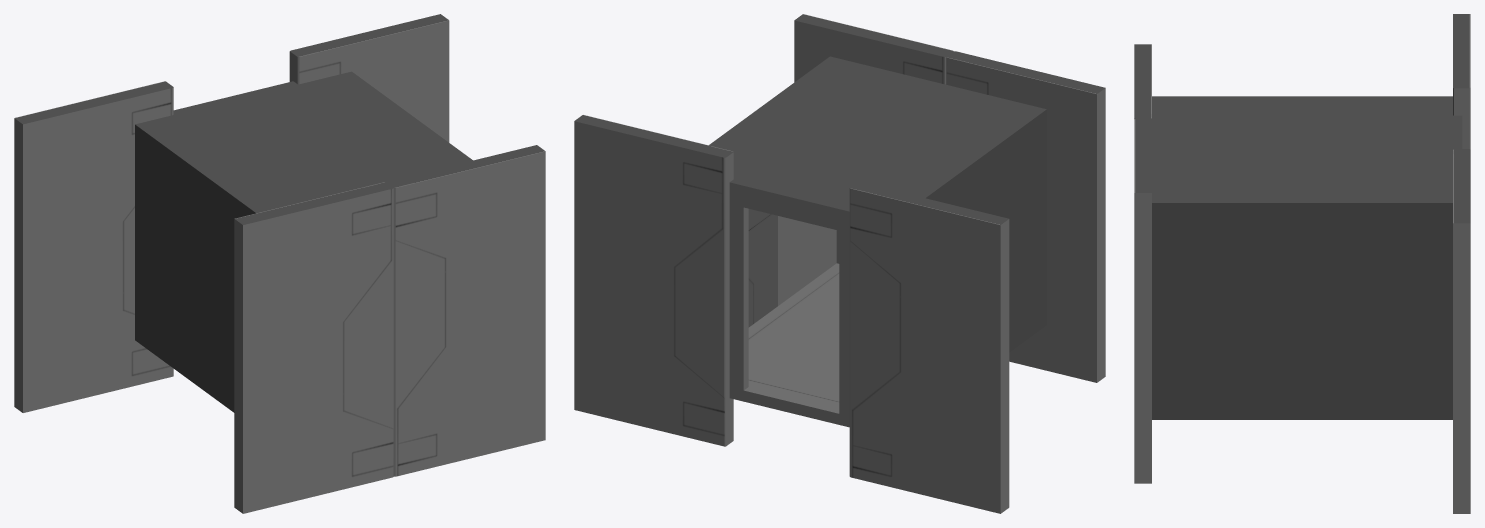
The model's file is Model_Prop_Elevator.fbx.
3 views of the same model, side by side, from view 1: azimuth 30°, elevation 25°; view 2: azimuth 150°, elevation 25°; view 3: azimuth 270°, elevation 25° (orthographic).
Parts seen in each view (by area): view 1: Elevator_Cab, Elevator_Door_D, Elevator_Door_C, Elevator_Door_B, Elevator_Door_A; view 2: Elevator_Cab, Elevator_Door_B, Elevator_Door_A, Elevator_Door_D, Elevator_Door_C; view 3: Elevator_Cab, Elevator_Door_C, Elevator_Door_A, Elevator_Door_B, Elevator_Door_D.
Boxes of the visible parts, x1,y1,x2,y2 form: Elevator_Cab: (135, 71, 472, 412); Elevator_Door_D: (234, 182, 393, 513); Elevator_Door_C: (386, 145, 545, 476); Elevator_Door_B: (14, 81, 173, 412); Elevator_Door_A: (289, 14, 449, 142); Elevator_Cab: (709, 56, 1046, 427); Elevator_Door_B: (849, 182, 1009, 513); Elevator_Door_A: (574, 115, 733, 446); Elevator_Door_D: (946, 51, 1105, 382); Elevator_Door_C: (794, 14, 953, 84); Elevator_Cab: (1152, 96, 1462, 419); Elevator_Door_C: (1134, 118, 1151, 483); Elevator_Door_A: (1453, 149, 1470, 513); Elevator_Door_B: (1453, 14, 1470, 149); Elevator_Door_D: (1134, 44, 1151, 118).
Size of the model in its own units: 9.31 by 6.02 by 6.31.
